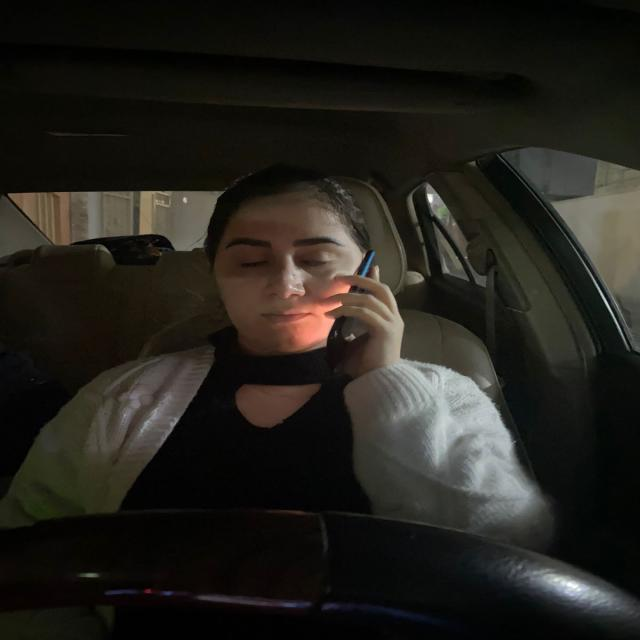mobile: (324, 248, 381, 381)
person: (201, 162, 402, 366)
